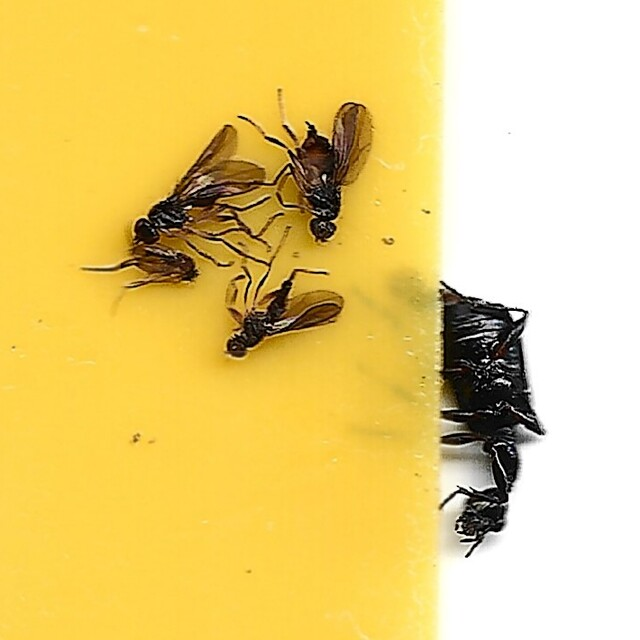Brachycera: (249, 91, 376, 244), (129, 124, 276, 256), (224, 222, 345, 364)
Coleoptera: (427, 280, 550, 549)
Nematocera: (90, 242, 204, 297)
